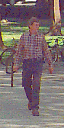person: (6, 18, 53, 117)
